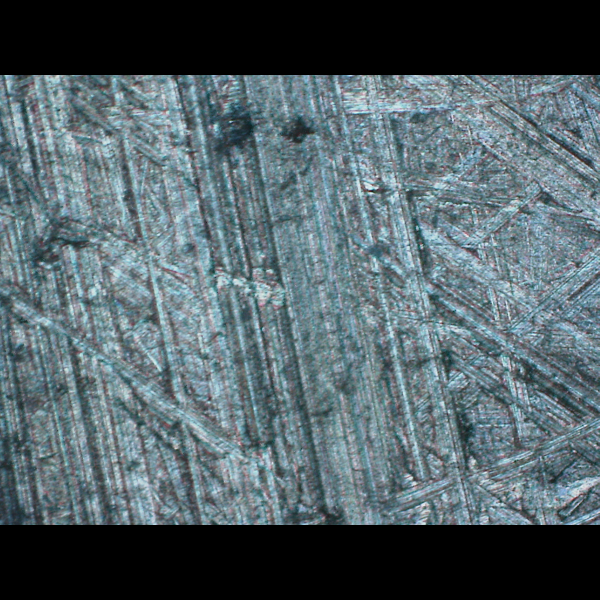d: (334, 85, 600, 525), (0, 199, 295, 461)
